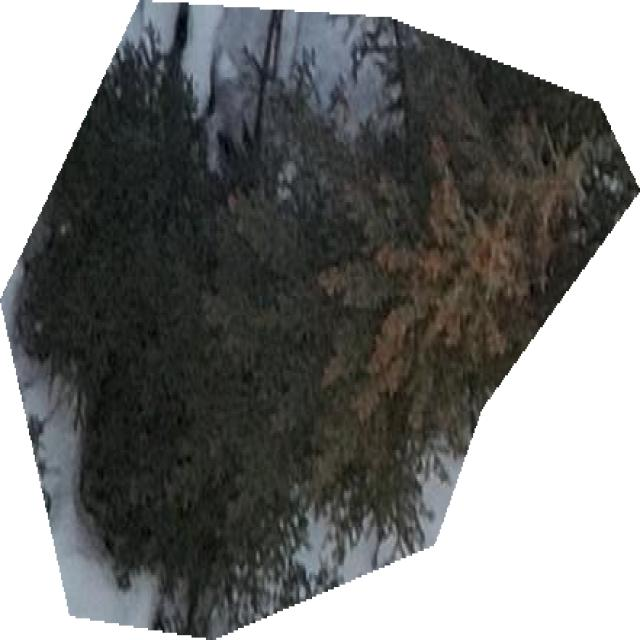spruce: (0, 0, 639, 638)
